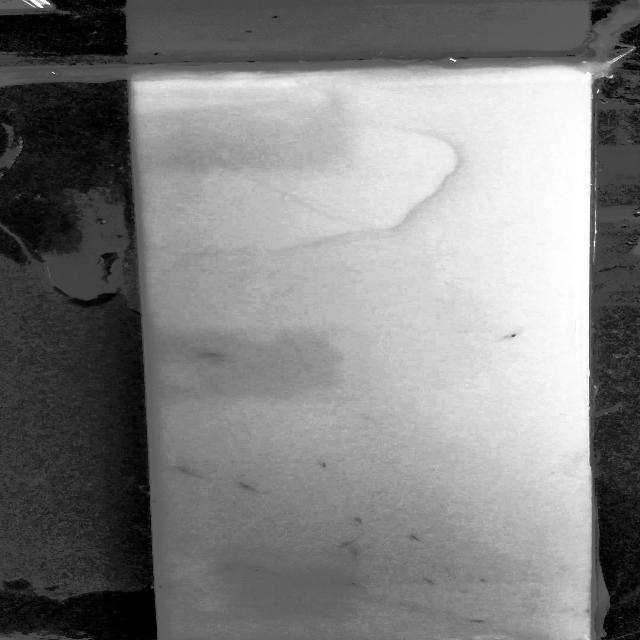shrimp: (494, 328, 529, 344), (243, 563, 282, 577), (197, 347, 230, 363), (171, 466, 205, 479), (420, 575, 449, 588), (236, 481, 266, 493), (466, 616, 501, 626), (338, 534, 360, 549), (147, 489, 162, 508), (316, 455, 336, 469), (156, 583, 183, 593), (468, 574, 490, 586), (345, 578, 368, 589), (405, 532, 426, 543), (350, 548, 365, 560), (222, 562, 242, 570), (328, 580, 346, 588), (353, 517, 367, 527)
